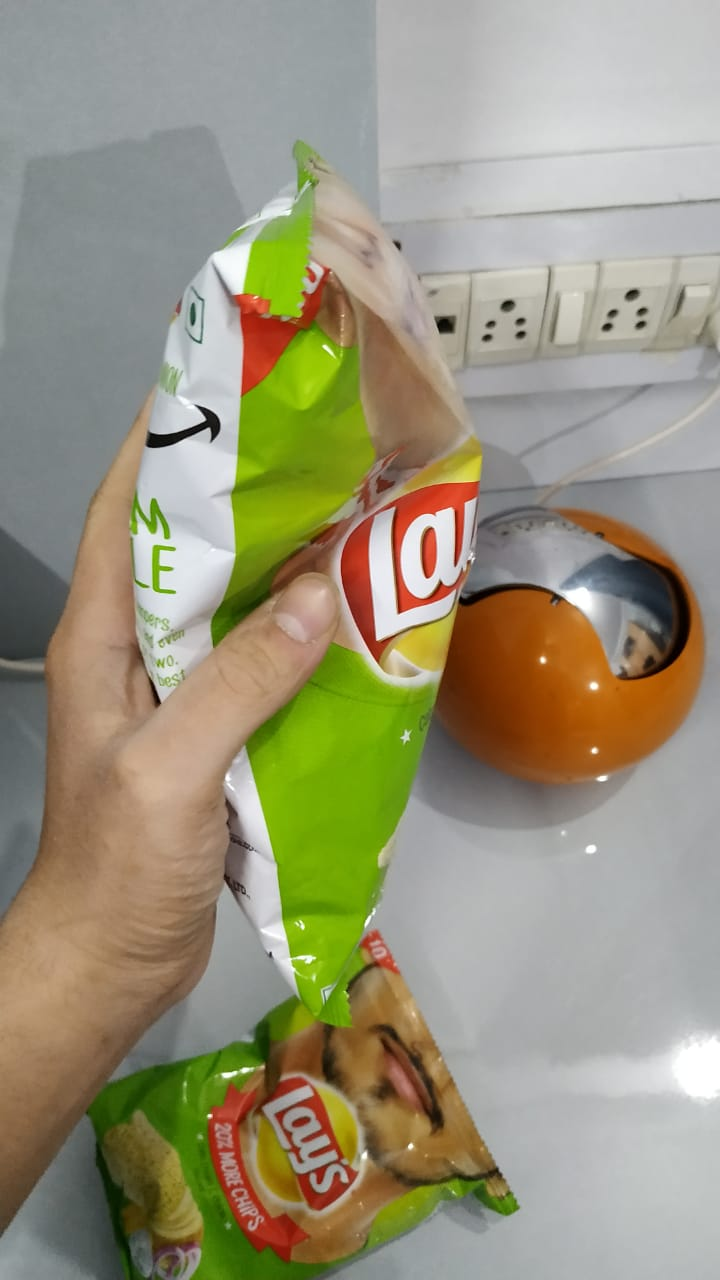lays chips: (127, 137, 443, 1014), (39, 927, 525, 1276)
